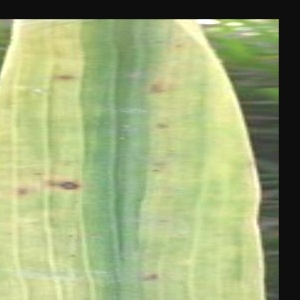Bacterial_Leaf_Blight: (134, 268, 169, 287), (53, 68, 81, 85), (57, 176, 82, 194), (146, 81, 170, 97), (15, 184, 31, 198), (155, 119, 173, 131), (44, 176, 60, 189), (58, 158, 75, 170), (131, 193, 147, 204), (164, 147, 177, 160), (211, 229, 227, 239), (155, 217, 172, 224), (32, 170, 46, 178), (4, 230, 16, 239), (46, 216, 57, 223), (68, 252, 78, 259), (174, 43, 183, 50), (66, 233, 76, 239), (151, 168, 161, 173)
